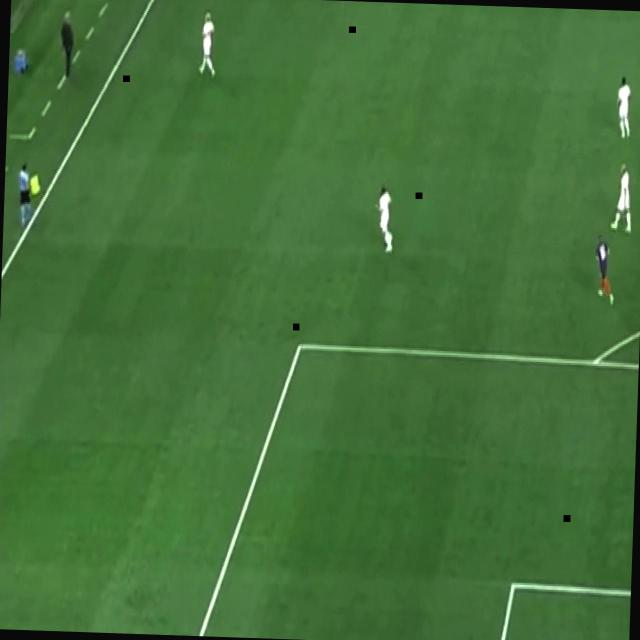player-white: (592, 231, 618, 307), (610, 161, 634, 235), (373, 184, 395, 254), (197, 9, 217, 78), (615, 76, 633, 140), (17, 160, 33, 228)
